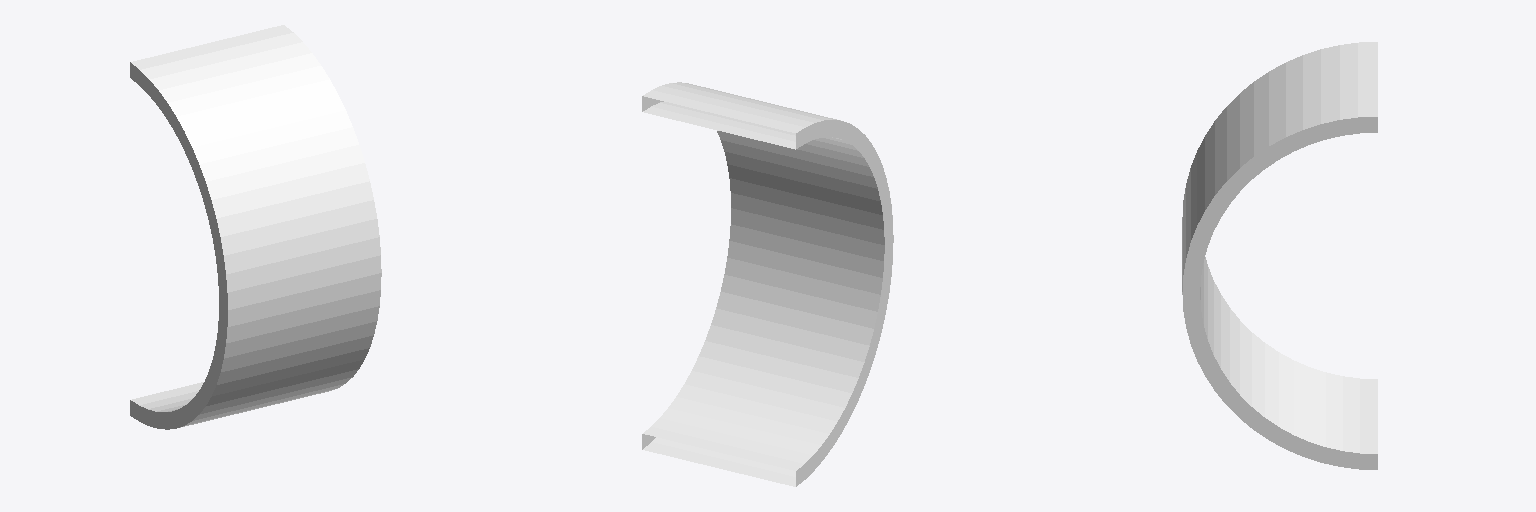
File: ViolettePBCurve.obj
3 views of the same model, side by side, from view 1: azimuth 30°, elevation 25°; view 2: azimuth 150°, elevation 25°; view 3: azimuth 270°, elevation 25° (orthographic).
Visible parts, largest first — view 1: ViolettePBCurve; view 2: ViolettePBCurve; view 3: ViolettePBCurve.
Boxes of the visible parts, x1=… form: ViolettePBCurve: x1=130, y1=25, x2=381, y2=429; ViolettePBCurve: x1=642, y1=82, x2=893, y2=486; ViolettePBCurve: x1=1182, y1=42, x2=1377, y2=469.
Size of the model in its own units: 5 by 11 by 5.5.